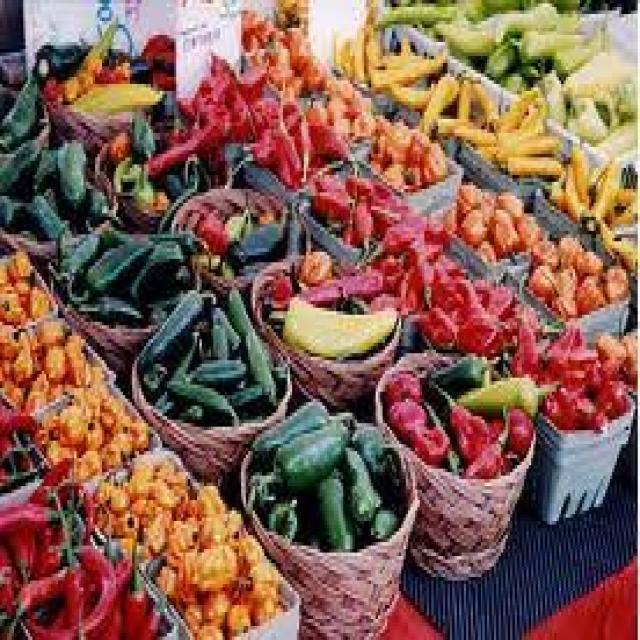organic waste: (16, 556, 118, 637), (262, 290, 394, 346), (253, 395, 348, 469), (134, 283, 216, 364), (429, 0, 557, 49), (274, 416, 350, 490), (65, 238, 151, 297), (432, 378, 489, 462), (452, 371, 557, 416), (144, 112, 216, 171), (63, 17, 116, 94), (155, 332, 202, 416), (459, 399, 508, 479), (58, 511, 88, 636), (350, 416, 399, 490), (5, 570, 72, 623), (167, 374, 234, 427), (211, 52, 253, 136), (420, 346, 494, 392), (63, 80, 162, 112), (0, 116, 44, 186), (53, 133, 88, 220), (316, 468, 352, 552), (561, 49, 626, 94), (299, 262, 380, 298), (65, 217, 111, 280), (230, 210, 285, 262), (128, 231, 178, 287), (243, 318, 276, 399), (40, 56, 126, 87), (32, 510, 84, 560), (181, 542, 234, 591), (510, 24, 591, 56), (0, 74, 35, 144), (366, 213, 422, 256), (557, 21, 605, 70), (23, 451, 74, 497), (366, 56, 443, 84), (83, 294, 144, 329), (123, 552, 148, 636), (100, 549, 125, 633), (344, 440, 374, 510), (243, 462, 283, 514), (496, 406, 536, 458), (188, 353, 246, 388), (0, 500, 63, 532), (459, 304, 510, 343), (308, 119, 352, 164), (594, 214, 635, 262), (498, 147, 566, 175), (586, 157, 616, 220), (492, 80, 533, 126), (415, 301, 455, 346), (109, 150, 148, 196), (30, 42, 81, 77), (418, 70, 452, 122), (385, 395, 427, 437), (434, 259, 462, 322), (162, 511, 195, 563), (566, 94, 603, 140), (142, 32, 172, 88), (485, 133, 554, 157), (0, 402, 35, 448), (209, 300, 241, 350), (236, 560, 274, 602), (462, 0, 575, 14), (269, 130, 297, 186), (225, 374, 269, 409), (592, 356, 622, 406), (141, 504, 174, 549), (536, 66, 564, 119), (543, 318, 575, 364), (30, 189, 65, 231), (447, 119, 494, 150), (510, 315, 538, 367), (267, 490, 299, 535), (594, 329, 626, 374), (413, 420, 443, 465), (457, 200, 489, 242), (197, 206, 225, 252), (190, 73, 223, 112), (84, 175, 114, 217), (294, 245, 330, 280), (382, 367, 418, 402), (350, 24, 371, 84), (376, 4, 466, 18), (25, 364, 58, 402), (362, 10, 387, 60), (72, 542, 107, 577), (480, 35, 515, 70), (512, 214, 548, 248), (7, 325, 30, 378), (559, 346, 596, 378), (74, 440, 102, 482), (487, 206, 515, 248), (366, 500, 396, 539), (244, 126, 274, 164), (225, 280, 250, 325), (392, 259, 417, 304), (144, 472, 176, 507), (237, 63, 269, 98), (561, 164, 582, 217), (128, 115, 156, 154), (235, 528, 258, 574), (459, 276, 482, 322), (220, 598, 250, 633), (172, 482, 197, 524), (56, 402, 81, 444), (559, 381, 584, 423), (0, 546, 14, 619), (480, 284, 510, 318), (466, 80, 492, 119), (412, 256, 433, 304), (202, 584, 230, 619), (294, 112, 308, 182), (267, 45, 292, 84), (42, 332, 65, 374), (123, 458, 153, 490), (195, 479, 222, 514), (250, 94, 276, 130), (311, 189, 350, 213), (151, 560, 181, 591), (389, 80, 426, 105), (568, 143, 584, 200), (0, 189, 26, 224), (432, 255, 468, 280), (420, 136, 445, 172), (352, 189, 368, 245), (524, 262, 552, 294), (401, 238, 438, 262), (7, 532, 28, 574), (573, 266, 598, 301), (600, 266, 628, 297), (144, 588, 162, 636), (167, 228, 199, 255), (153, 454, 183, 482), (371, 203, 406, 227), (380, 256, 410, 284), (608, 196, 638, 224), (596, 91, 626, 119), (195, 511, 222, 542), (220, 206, 246, 238), (102, 384, 125, 420), (0, 370, 23, 406), (457, 178, 480, 214), (248, 588, 274, 619), (294, 56, 320, 87), (65, 346, 88, 381), (522, 91, 545, 126), (30, 315, 63, 339), (42, 434, 70, 462), (160, 161, 188, 189), (575, 395, 603, 423), (624, 328, 638, 384), (276, 98, 301, 129), (614, 77, 636, 112), (271, 0, 303, 24), (554, 234, 578, 266), (239, 11, 267, 38), (81, 490, 95, 542), (141, 360, 167, 388), (422, 217, 448, 245), (288, 21, 304, 66), (125, 413, 148, 444), (5, 245, 28, 276), (267, 266, 290, 297), (404, 129, 426, 161), (552, 262, 570, 301), (494, 189, 519, 217), (223, 504, 241, 542), (209, 315, 227, 353), (181, 591, 202, 623), (0, 283, 21, 315), (104, 126, 128, 154), (434, 115, 471, 133), (109, 427, 130, 458), (88, 357, 109, 388), (111, 507, 137, 532), (334, 35, 357, 63), (346, 87, 366, 119), (455, 77, 473, 112), (93, 402, 118, 427), (573, 248, 598, 273), (343, 175, 369, 199), (531, 238, 557, 262), (402, 161, 424, 189), (72, 385, 97, 409), (369, 182, 394, 206), (387, 119, 406, 150), (475, 231, 494, 262), (382, 157, 403, 185), (367, 136, 388, 164), (192, 616, 220, 636), (550, 290, 572, 315), (183, 395, 209, 416), (313, 171, 343, 189), (104, 479, 123, 507), (169, 259, 188, 287), (373, 112, 392, 140), (614, 178, 638, 200), (81, 416, 102, 441), (499, 70, 524, 91), (343, 206, 355, 248), (352, 112, 376, 133), (26, 283, 46, 308), (443, 196, 459, 227), (264, 24, 286, 46), (97, 220, 123, 238), (547, 175, 566, 199), (283, 73, 301, 98), (35, 416, 51, 444), (42, 412, 58, 440), (0, 328, 16, 356), (146, 186, 167, 207), (141, 546, 160, 566), (327, 98, 345, 119), (130, 175, 151, 192), (9, 273, 23, 297), (336, 77, 350, 101), (320, 66, 334, 88), (520, 60, 542, 74), (0, 353, 12, 378), (130, 493, 144, 514), (0, 434, 12, 458), (248, 31, 264, 49), (478, 189, 494, 206), (337, 122, 352, 140), (95, 482, 104, 510), (272, 360, 286, 378), (306, 101, 320, 119), (65, 328, 81, 342), (394, 42, 410, 56)
